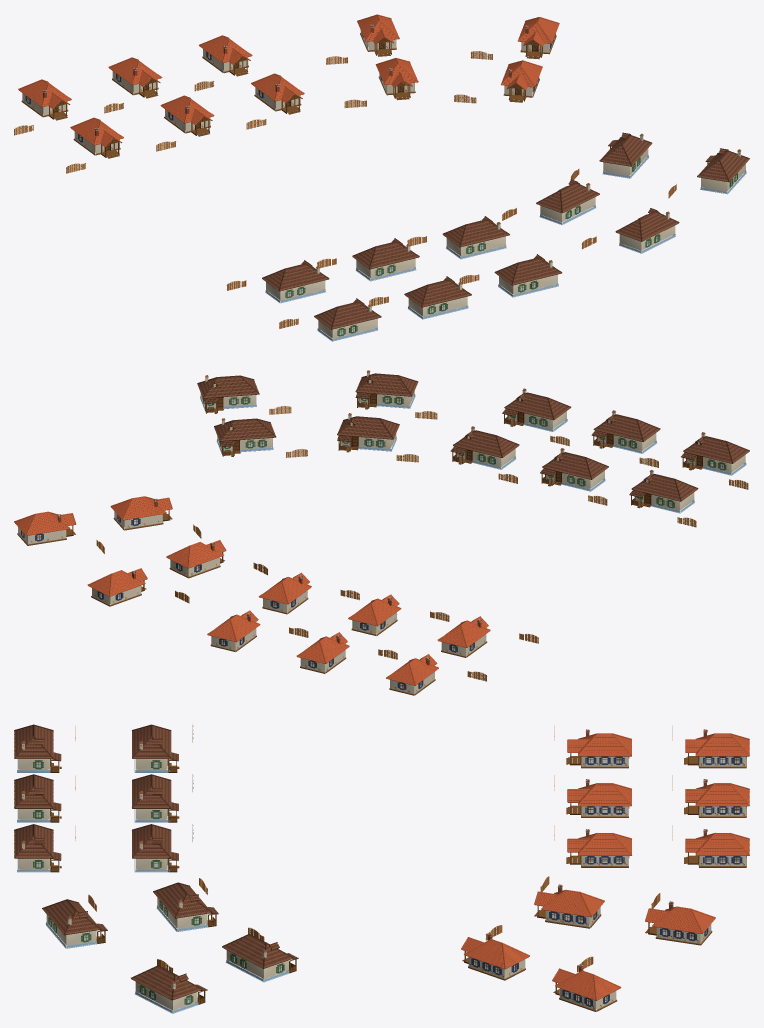
File: bz_houses.glb
3 views of the same model, one above another, from view 1: azimuth 30°, elevation 25°; view 2: azimuth 150°, elevation 25°; view 3: azimuth 270°, elevation 25° (orthographic). The views are drawn at different scales.
Parts seen in each view (by area): view 1: Хата_Зелена_02_Дах, Хата_Зелена_Дах, Хата_Зелена_08_Дах, Хата_Зелена_07_Дах, Хата_Зелена_03_Дах, Хата_Зелена_06_Дах, Хата_Зелена_09_Дах, Хата_Зелена_04_Дах, Хата_Зелена_05_Дах, Хата_Зелена_10_Дах, Хата_09_Дах, Хата_10_Дах (+16 smaller); view 2: Хата_Зелена_05_Дах, Хата_Зелена_10_Дах, Хата_Зелена_04_Дах, Хата_Зелена_09_Дах, Хата_Зелена_02_Дах, Хата_Зелена_Дах, Хата_Зелена_03_Дах, Хата_Зелена_07_Дах, Хата_Зелена_08_Дах, Хата_Зелена_06_Дах, Хата_05_Дах, Хата_10_Дах (+8 smaller); view 3: Хата_Зелена_05_Дах, Хата_Зелена_10_Дах, Хата_Зелена_03_Дах, Хата_Зелена_Дах, Хата_Зелена_07_Дах, Хата_Зелена_08_Дах, Хата_Зелена_02_Дах, Хата_Зелена_06_Дах, Хата_Зелена_04_Дах, Хата_Зелена_09_Дах, Хата_09_Дах, Хата_03_Дах (+16 smaller).
Part boxes in pixels (x1,y1,x2,y2): Хата_Зелена_02_Дах: [314, 301, 381, 329]; Хата_Зелена_Дах: [494, 257, 562, 285]; Хата_Зелена_08_Дах: [442, 219, 509, 247]; Хата_Зелена_07_Дах: [352, 241, 419, 269]; Хата_Зелена_03_Дах: [404, 279, 471, 307]; Хата_Зелена_06_Дах: [262, 263, 329, 291]; Хата_Зелена_09_Дах: [536, 182, 599, 213]; Хата_Зелена_04_Дах: [615, 211, 679, 241]; Хата_Зелена_05_Дах: [697, 150, 749, 182]; Хата_Зелена_10_Дах: [599, 134, 652, 166]; Хата_09_Дах: [375, 58, 418, 84]; Хата_10_Дах: [501, 60, 542, 87]; Хата_Зелена_05_Дах: [197, 375, 259, 398]; Хата_Зелена_10_Дах: [214, 418, 276, 441]; Хата_Зелена_04_Дах: [355, 373, 418, 396]; Хата_Зелена_09_Дах: [337, 416, 399, 439]; Хата_Зелена_02_Дах: [683, 436, 749, 463]; Хата_Зелена_Дах: [504, 392, 571, 420]; Хата_Зелена_03_Дах: [593, 414, 660, 441]; Хата_Зелена_07_Дах: [542, 452, 608, 479]; Хата_Зелена_08_Дах: [453, 430, 519, 457]; Хата_Зелена_06_Дах: [631, 474, 698, 501]; Хата_05_Дах: [14, 511, 70, 535]; Хата_10_Дах: [110, 496, 166, 520]; Хата_Зелена_05_Дах: [131, 965, 202, 1000]; Хата_Зелена_10_Дах: [222, 933, 293, 968]; Хата_Зелена_03_Дах: [14, 774, 53, 808]; Хата_Зелена_Дах: [14, 824, 53, 858]; Хата_Зелена_07_Дах: [132, 774, 171, 808]; Хата_Зелена_08_Дах: [132, 824, 171, 858]; Хата_Зелена_02_Дах: [14, 724, 53, 758]; Хата_Зелена_06_Дах: [132, 724, 171, 758]; Хата_Зелена_04_Дах: [42, 899, 100, 935]; Хата_Зелена_09_Дах: [153, 882, 211, 918]; Хата_09_Дах: [541, 889, 604, 917]; Хата_03_Дах: [695, 783, 749, 806].
Bounding box in the file's own units: 114 × 5.65 × 125.
